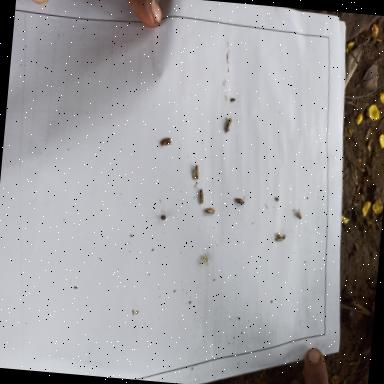pbw: (190, 164, 200, 182), (234, 195, 246, 208), (224, 117, 233, 134), (160, 137, 172, 148), (198, 189, 205, 205), (204, 208, 215, 218), (276, 234, 286, 242), (296, 210, 302, 220)
